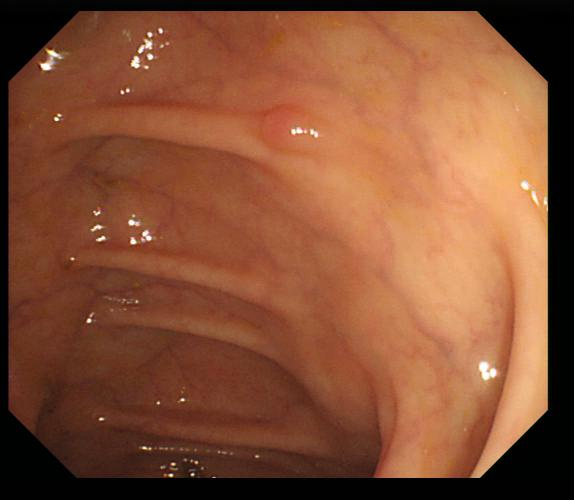polyp: (253, 101, 335, 157)
